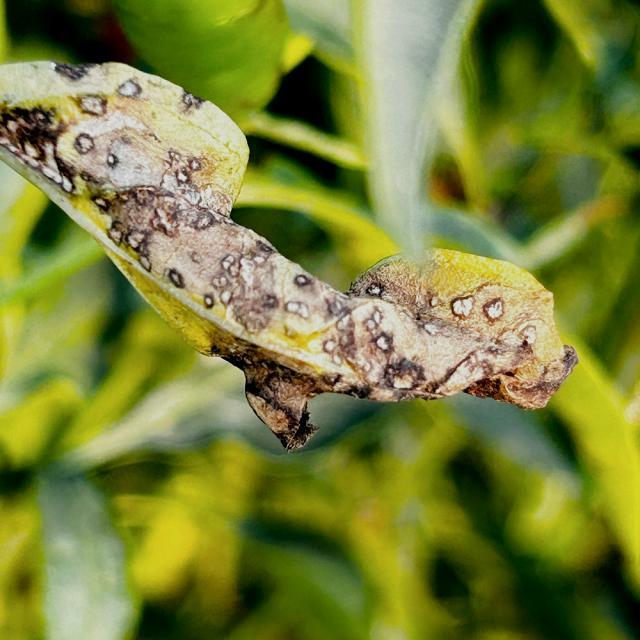Bercak Daun Serkospora: (1, 58, 578, 452)
